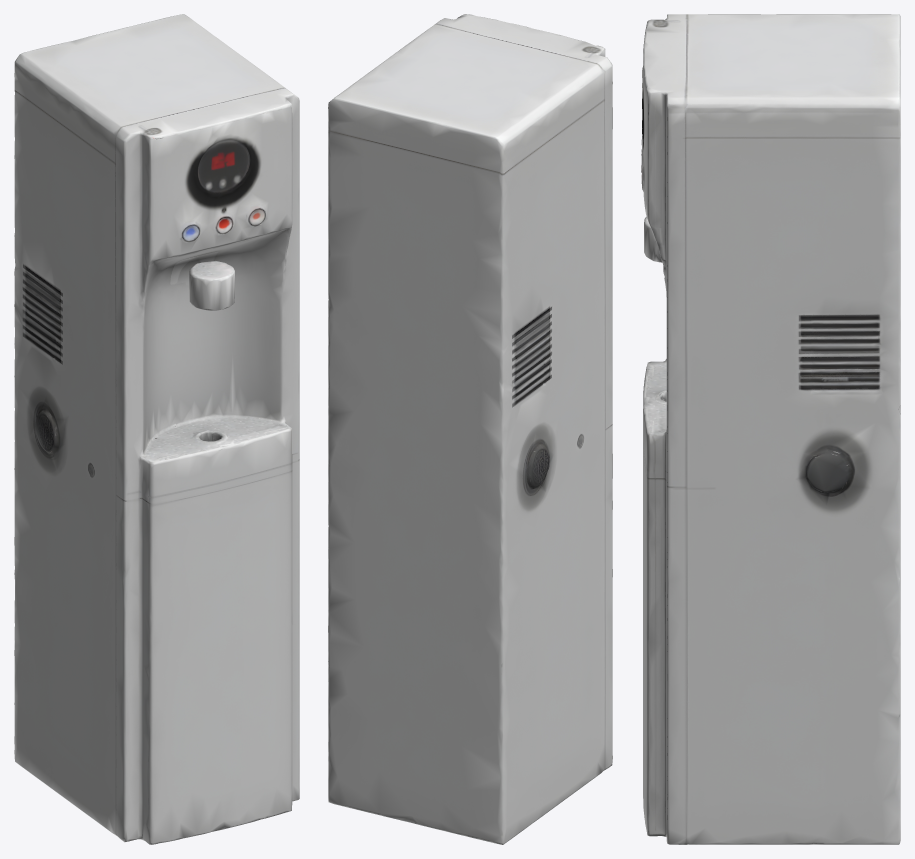
The model's file is susebili.fbx.
The picture shows the model from 3 angles, left to right: view 1: azimuth 30°, elevation 25°; view 2: azimuth 150°, elevation 25°; view 3: azimuth 270°, elevation 25°; orthographic projection. The views are drawn at different scales.
Parts seen in each view (by area): view 1: Mesh_0; view 2: Mesh_0; view 3: Mesh_0.
Boxes of the visible parts, bbox=[...] form: Mesh_0: bbox=[14, 14, 299, 844]; Mesh_0: bbox=[328, 14, 612, 844]; Mesh_0: bbox=[641, 14, 900, 844].
Bounding box in the file's own units: 51.23 × 191 × 60.22.
Materials: 1 (1 with a texture image).
